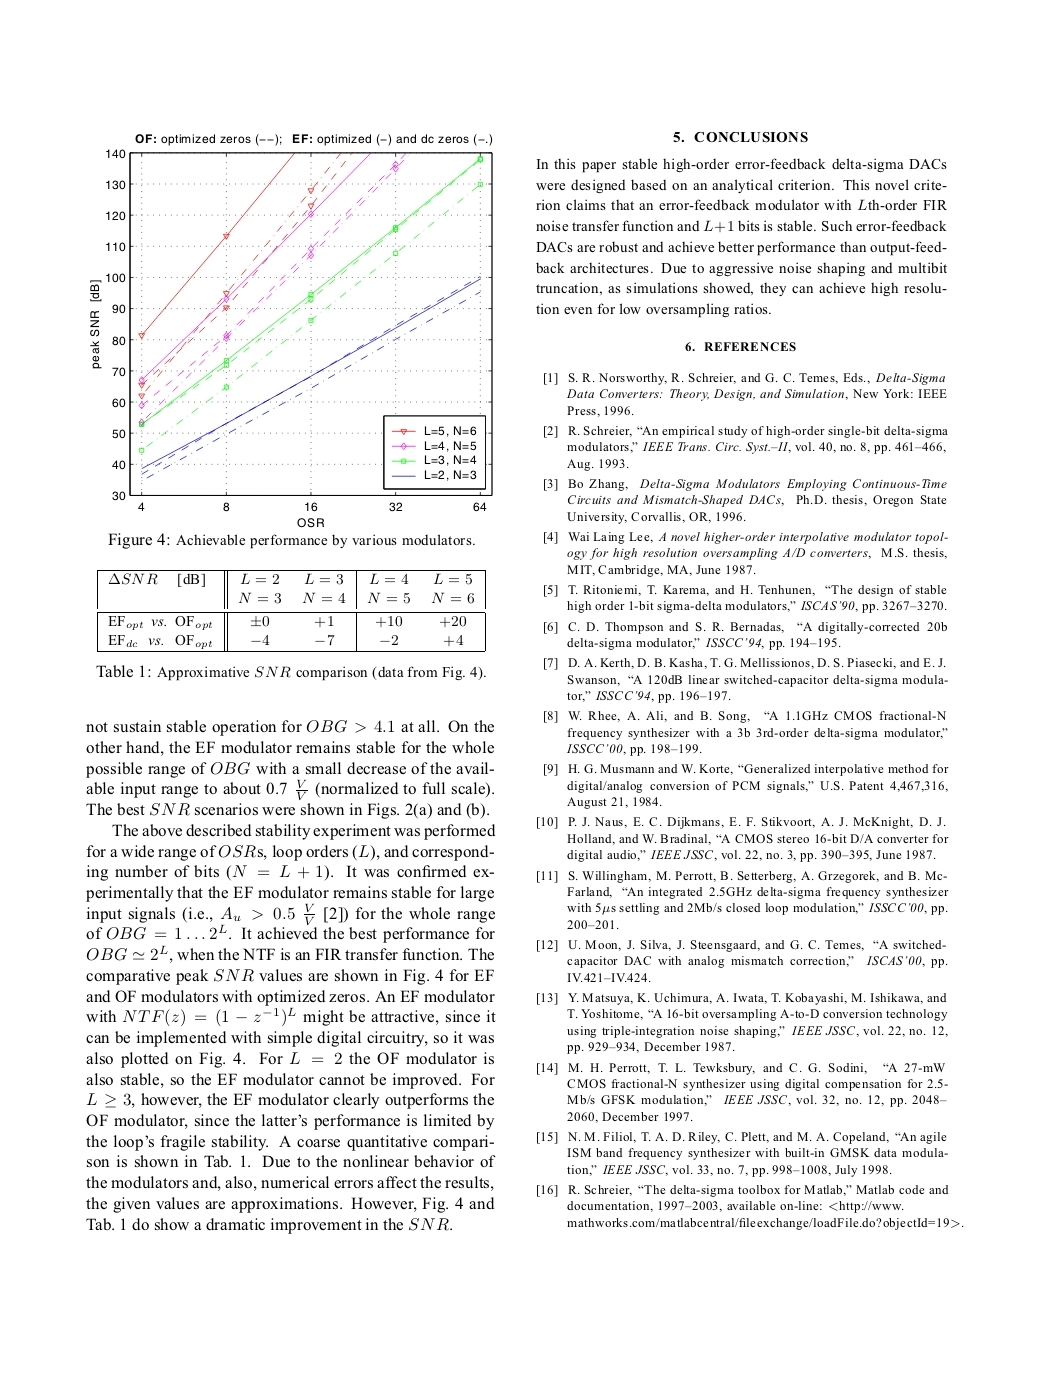Table: (97, 569, 485, 652)
figure: (90, 148, 491, 512)
